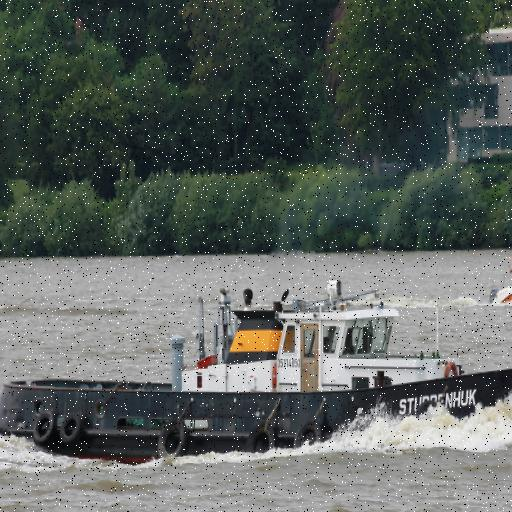tugboat: (1, 275, 512, 480)
